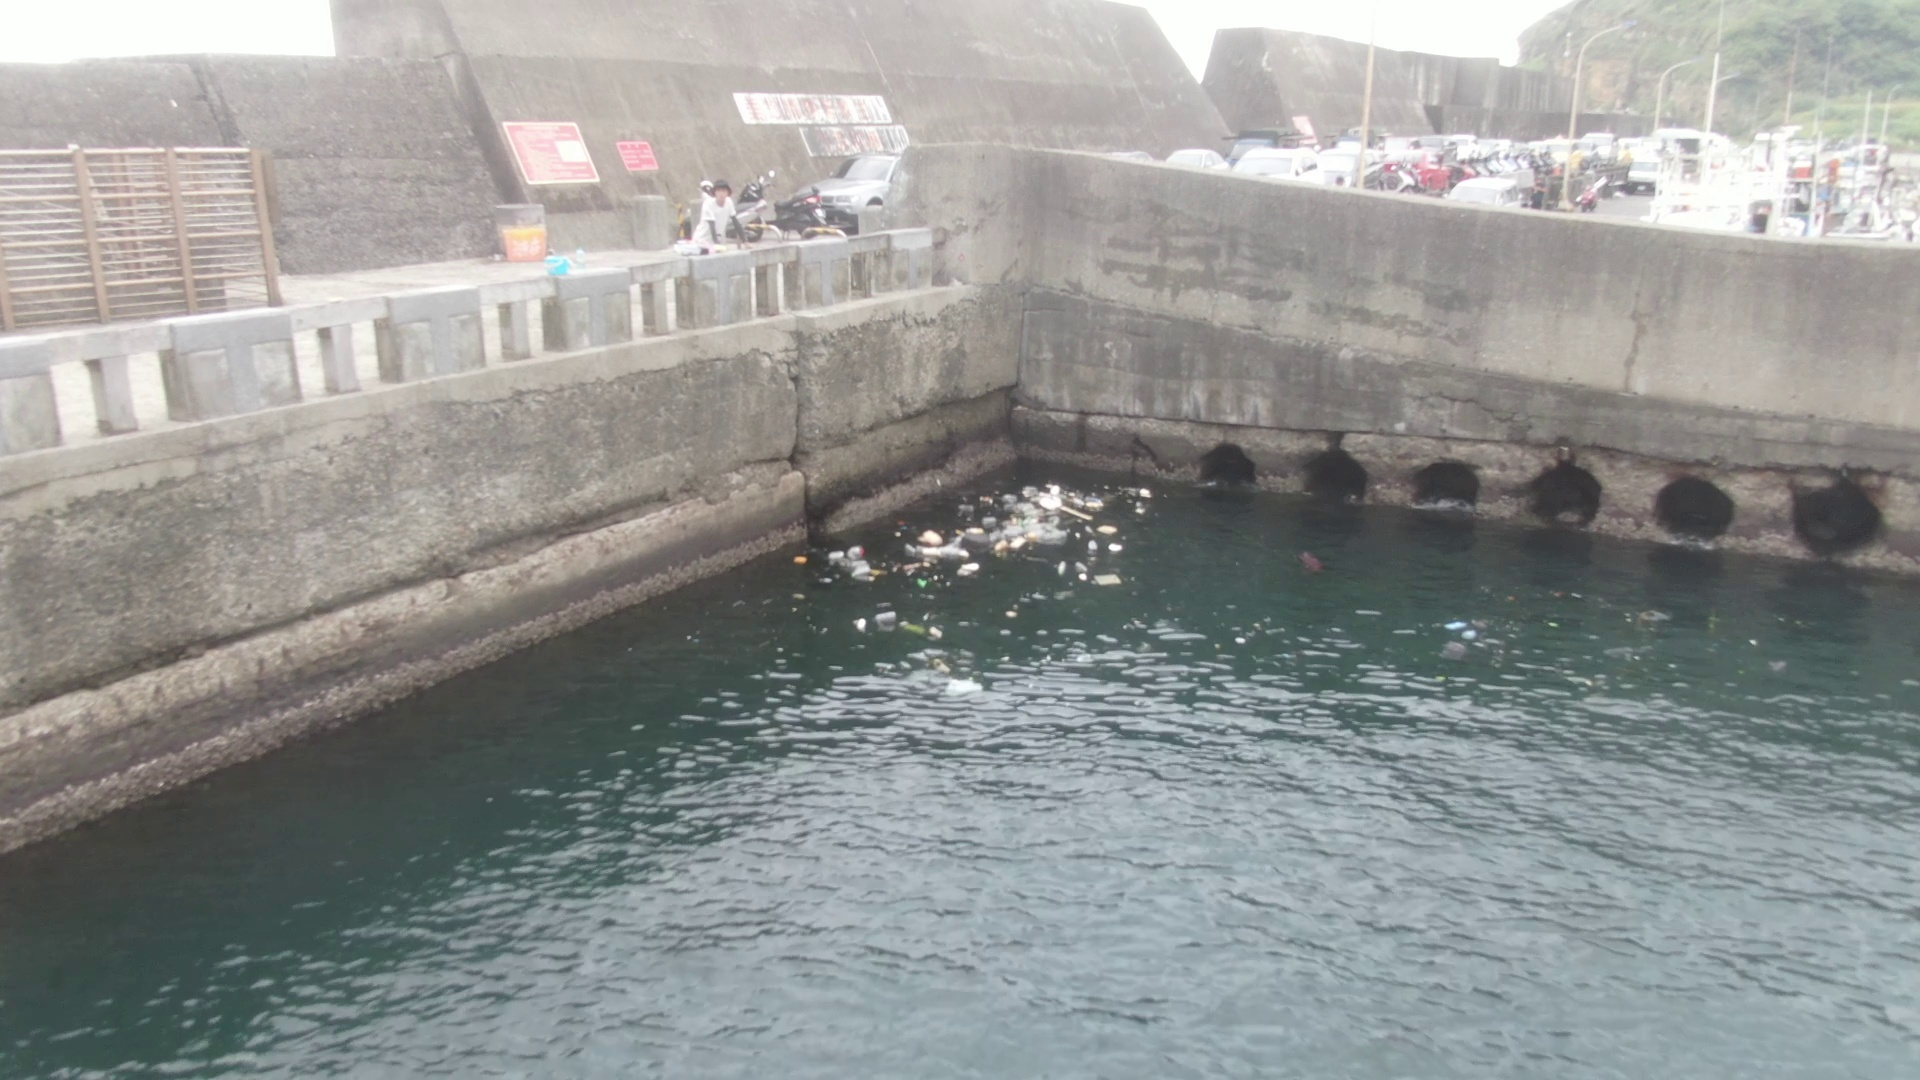garbage: (786, 456, 1170, 632)
